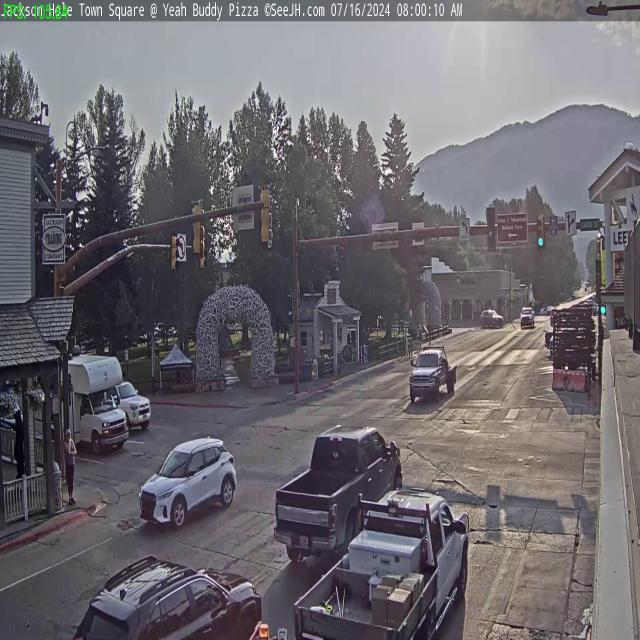person: (60, 428, 80, 506)
pickup: (298, 483, 470, 640), (270, 414, 406, 562), (406, 346, 459, 406)
suv: (66, 551, 268, 640), (140, 434, 238, 528), (115, 378, 150, 431), (478, 308, 503, 329), (518, 305, 536, 328)
traffic light: (190, 200, 203, 256), (260, 184, 272, 244), (487, 207, 498, 252), (170, 234, 180, 273), (536, 214, 546, 248)
